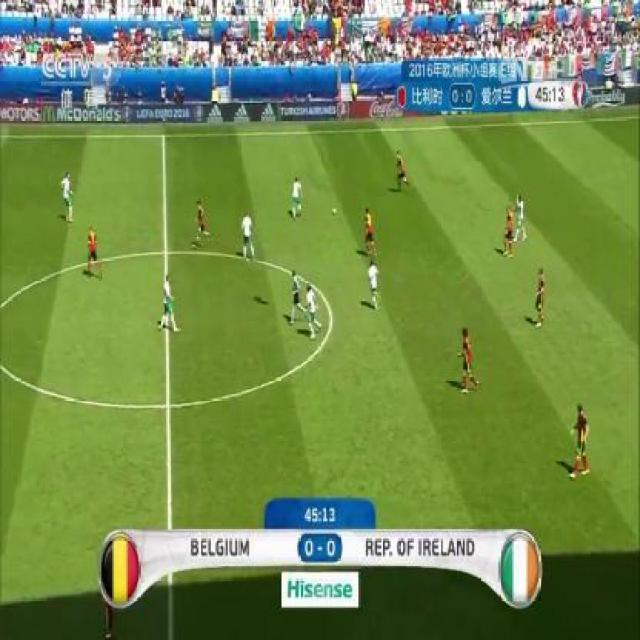ball: (327, 203, 339, 219)
player: (455, 325, 488, 397), (157, 273, 186, 341), (80, 223, 112, 281), (572, 403, 593, 480), (529, 263, 553, 328), (365, 258, 390, 316), (304, 282, 325, 346), (359, 205, 382, 259), (194, 194, 215, 250), (388, 146, 413, 191), (239, 208, 259, 263), (59, 171, 77, 229), (500, 203, 518, 258), (514, 191, 531, 246), (285, 173, 303, 224)
referee: (288, 266, 308, 326)
